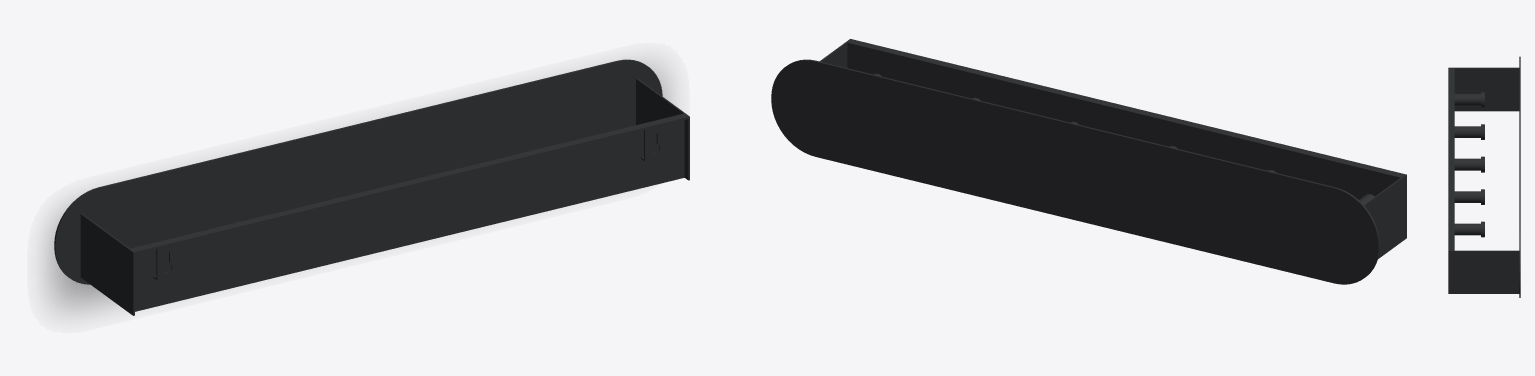
Rendered from round-hook.1dda2a7f74.ar.glb.
3 views of the same model, side by side, from view 1: azimuth 30°, elevation 25°; view 2: azimuth 150°, elevation 25°; view 3: azimuth 270°, elevation 25° (orthographic). The views are drawn at different scales.
Parts seen in each view (by area): view 1: NAUO1, object 2; view 2: NAUO1; view 3: NAUO1.
Part boxes in pixels (bbox=[...]): NAUO1: bbox=[54, 59, 689, 315]; object 2: bbox=[46, 66, 669, 310]; NAUO1: bbox=[771, 39, 1406, 284]; NAUO1: bbox=[1448, 56, 1520, 297].
Bounding box in the file's own units: 0.68 × 0.17 × 0.092.
2 materials, 1 textured.
